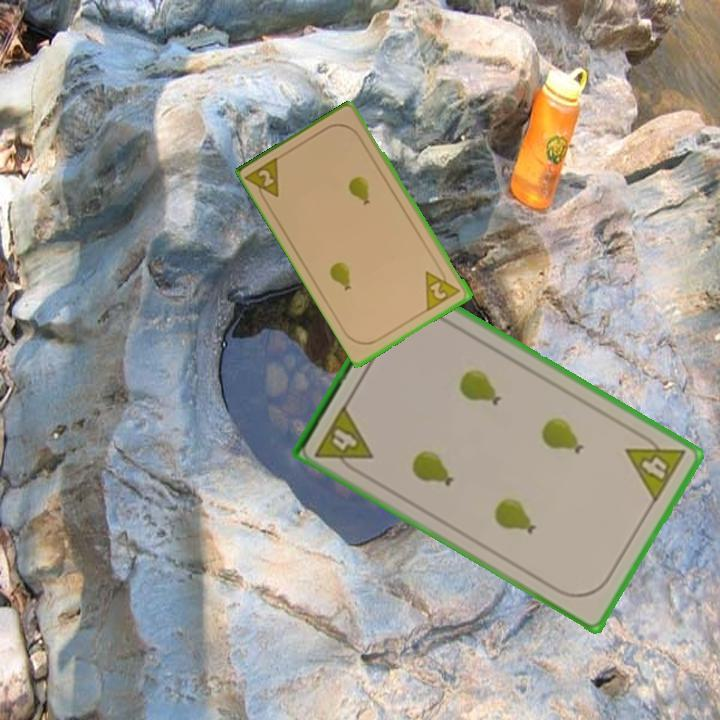2p: (421, 262, 465, 313), (243, 153, 284, 207)
4p: (622, 427, 689, 506), (312, 401, 376, 478)
